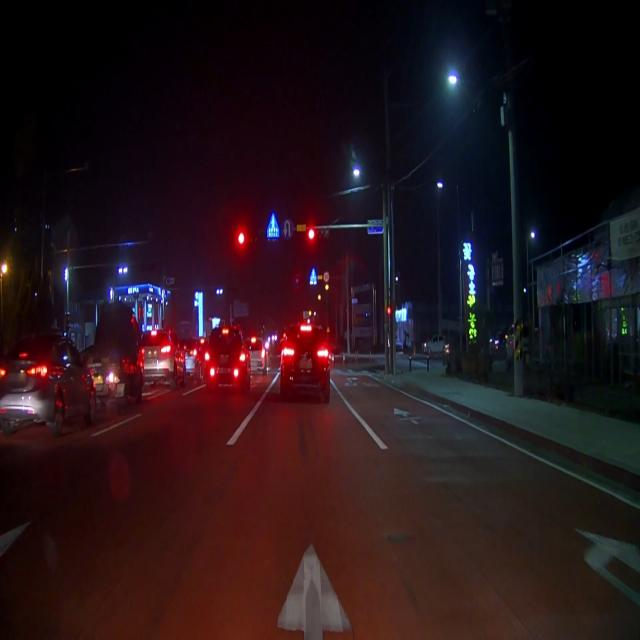Red Light: (308, 228, 316, 242), (238, 231, 245, 246)
